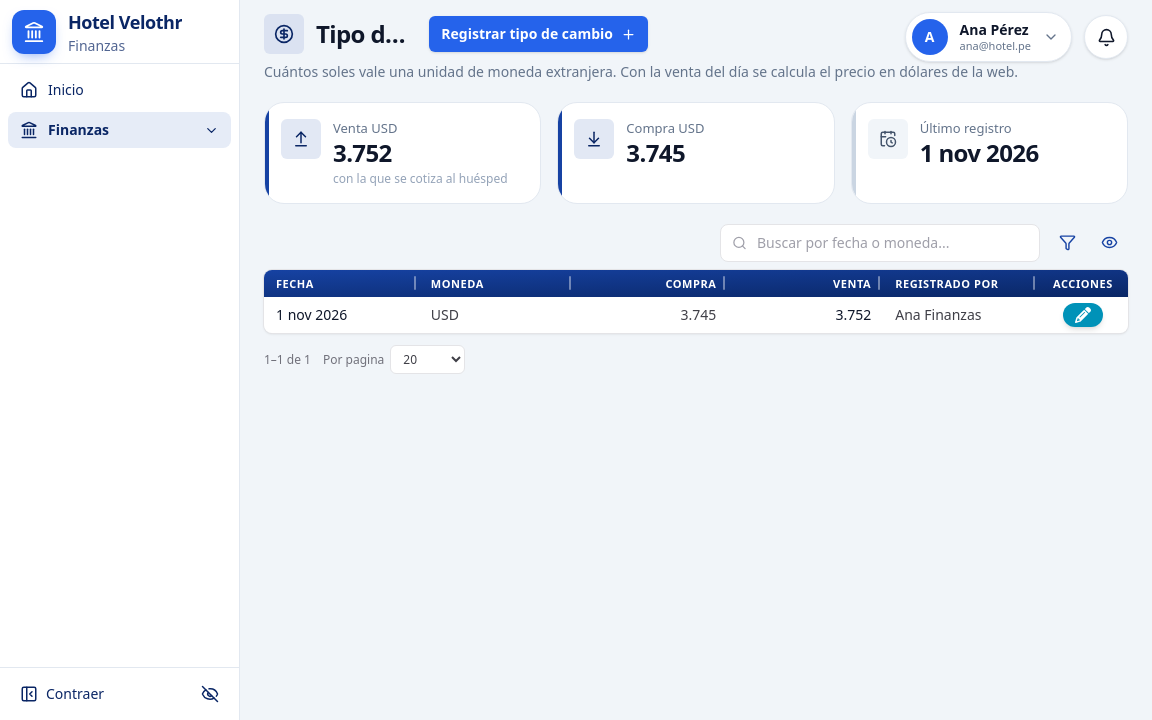
Scenario: Tipo de cambio (Finanzas) › corregir un día prellena el formulario con las tasas de ese día
Click the button named "Corregir el tipo de cambio".
click(1083, 315)  # box [1063,303,1103,327]
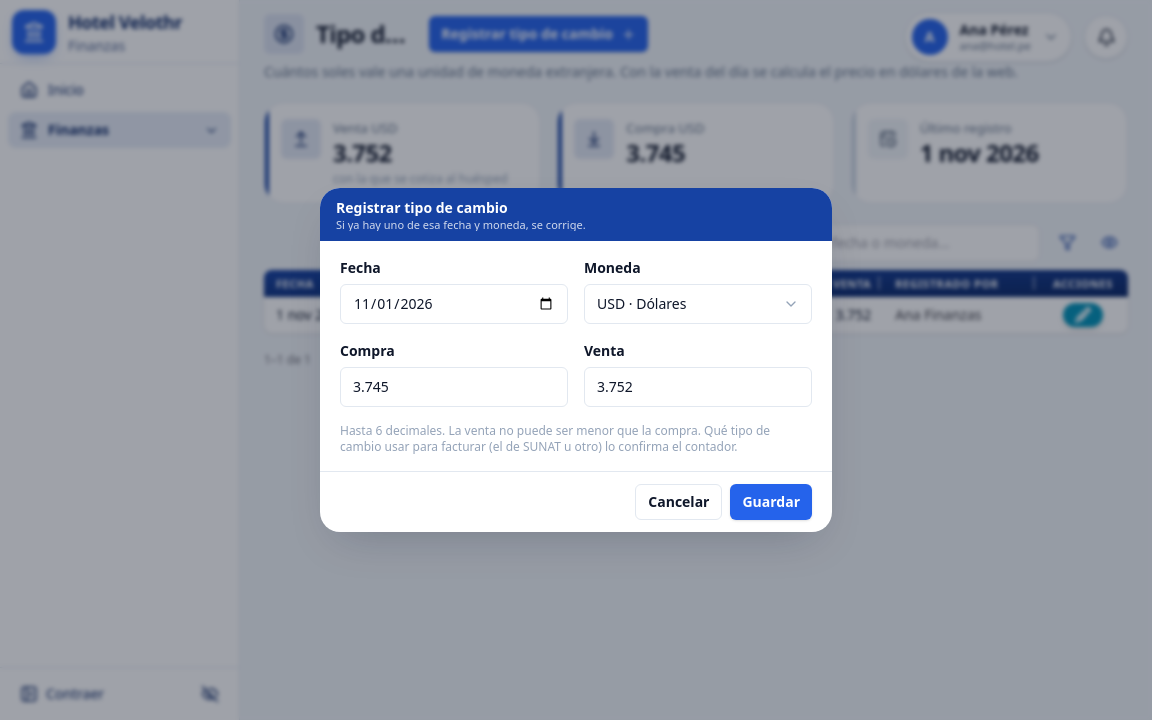
Expected: the field labelled "Compra" holds "3.745", [353,377,555,397]
Expected: the field labelled "Venta" holds "3.752", [597,377,799,397]
